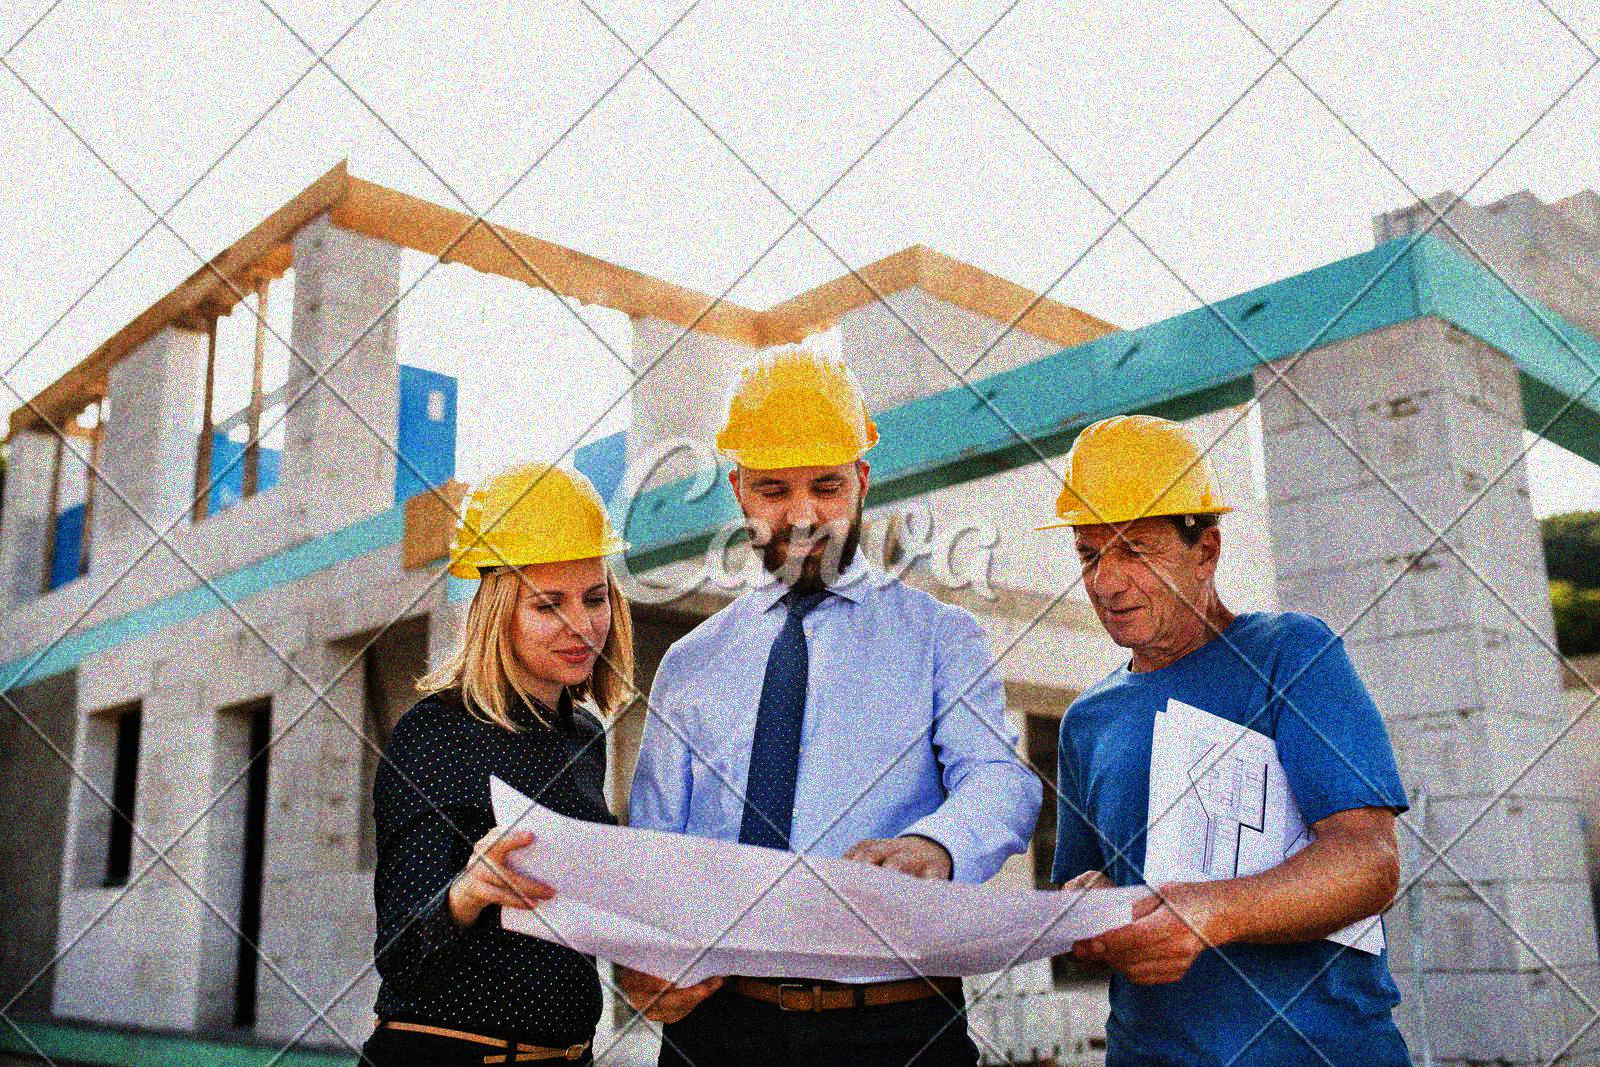helmet: (1029, 412, 1238, 653), (446, 458, 635, 695), (717, 341, 885, 588)
